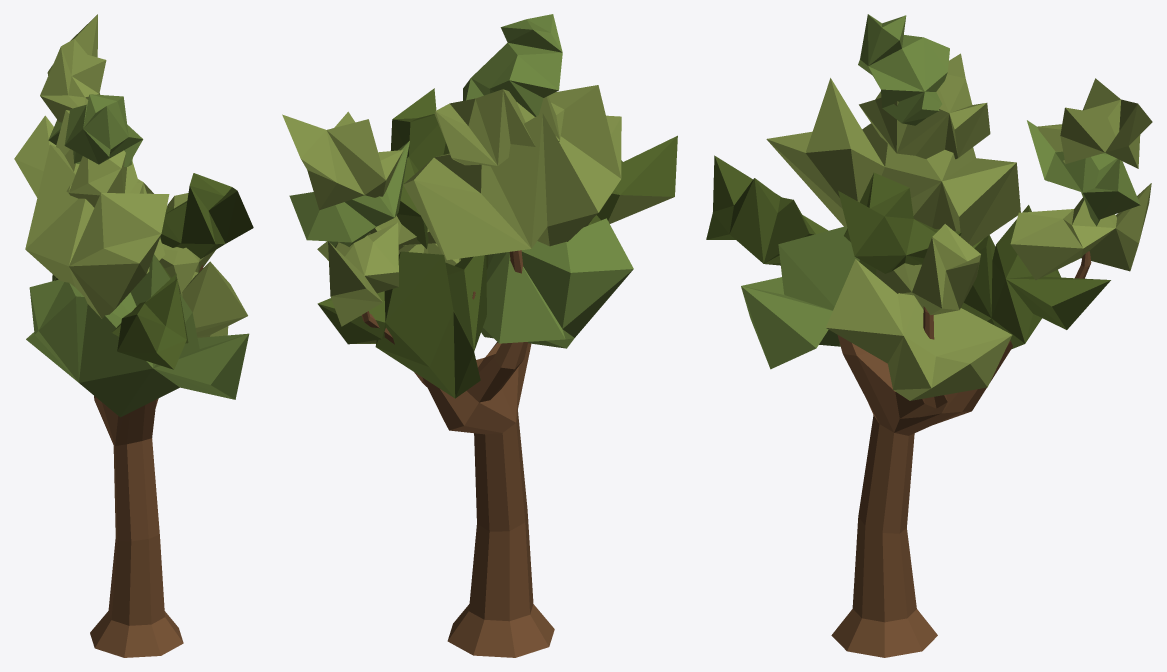
The model's file is TreeMedium.fbx.
3 renders of one model, left to right at view 1: azimuth 30°, elevation 25°; view 2: azimuth 150°, elevation 25°; view 3: azimuth 270°, elevation 25°, orthographic. The views are drawn at different scales.
Parts seen in each view (by area): view 1: Circle; view 2: Circle; view 3: Circle.
Part boxes in pixels (box(x1,y1,x2,y2)): Circle: box(14, 14, 253, 657); Circle: box(282, 14, 677, 657); Circle: box(706, 14, 1152, 657).
Size of the model in its own units: 529 by 1242 by 837.
